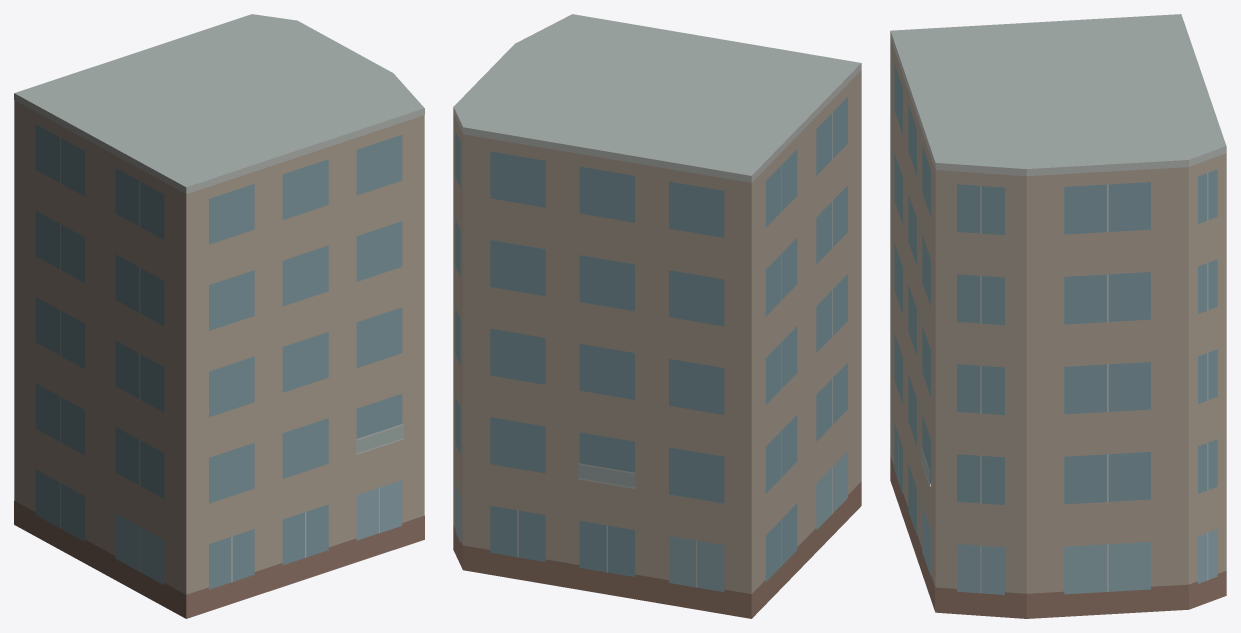
Rendered from survey-upis-32744003.glb.
3 views of the same model, side by side, from view 1: azimuth 30°, elevation 25°; view 2: azimuth 150°, elevation 25°; view 3: azimuth 270°, elevation 25° (orthographic). The views are drawn at different scales.
Parts seen in each view (by area): view 1: survey-upis-32744003.tmp; view 2: survey-upis-32744003.tmp; view 3: survey-upis-32744003.tmp.
Boxes of the visible parts, box(x1,y1,x2,y2) form: survey-upis-32744003.tmp: box(14, 14, 424, 618); survey-upis-32744003.tmp: box(453, 14, 861, 618); survey-upis-32744003.tmp: box(890, 14, 1226, 618).
Bounding box in the file's own units: 11.4 × 15.4 × 10.44.
